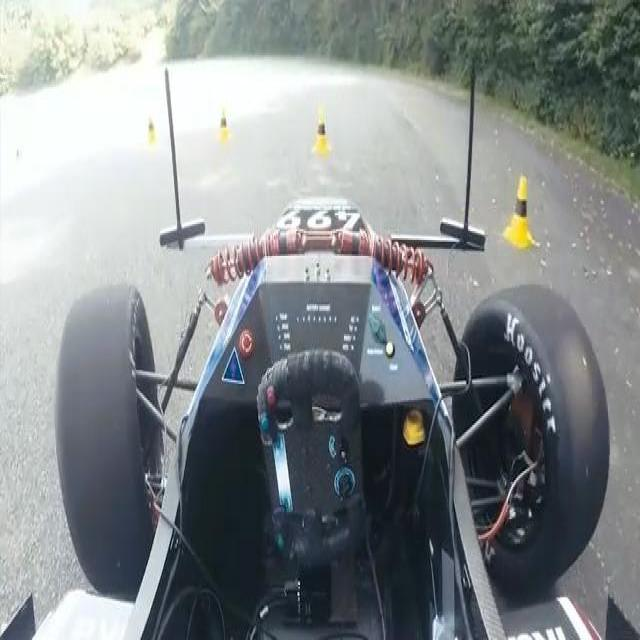yellow_cone: (503, 172, 535, 249), (312, 107, 331, 158), (215, 106, 231, 148), (147, 114, 159, 148)
